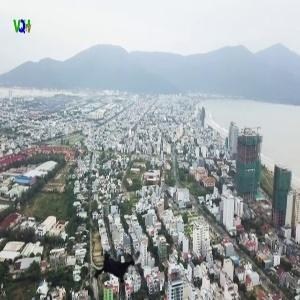drone: (86, 234, 147, 295)
